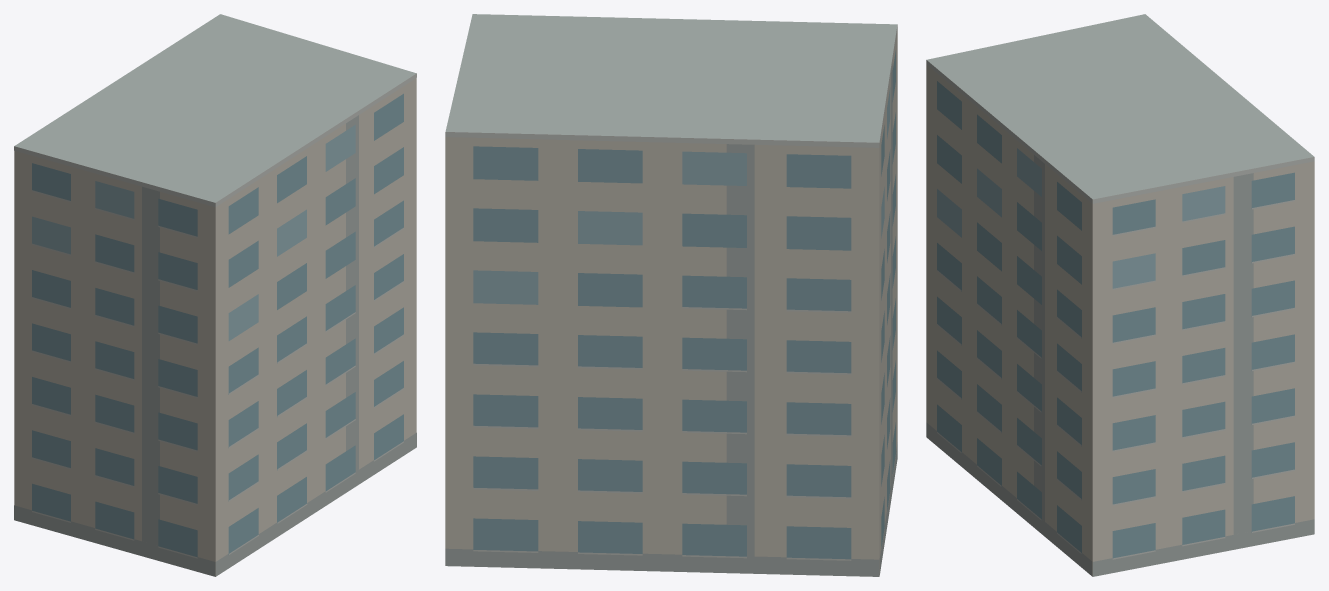
Rendered from survey-upis-32747452.glb.
3 views of the same model, side by side, from view 1: azimuth 30°, elevation 25°; view 2: azimuth 150°, elevation 25°; view 3: azimuth 270°, elevation 25° (orthographic). The views are drawn at different scales.
Parts seen in each view (by area): view 1: survey-upis-32747452.tmp; view 2: survey-upis-32747452.tmp; view 3: survey-upis-32747452.tmp.
Boxes of the visible parts, <box> form: survey-upis-32747452.tmp: <box>14,14,416,576</box>; survey-upis-32747452.tmp: <box>445,14,897,576</box>; survey-upis-32747452.tmp: <box>926,14,1314,576</box>.
Bounding box in the file's own units: 21.66 × 20.55 × 19.16.
